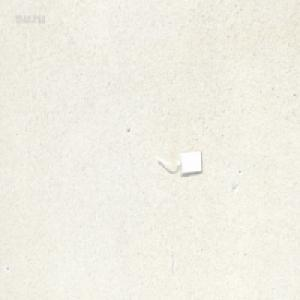LuggageTag: (155, 148, 201, 174)
